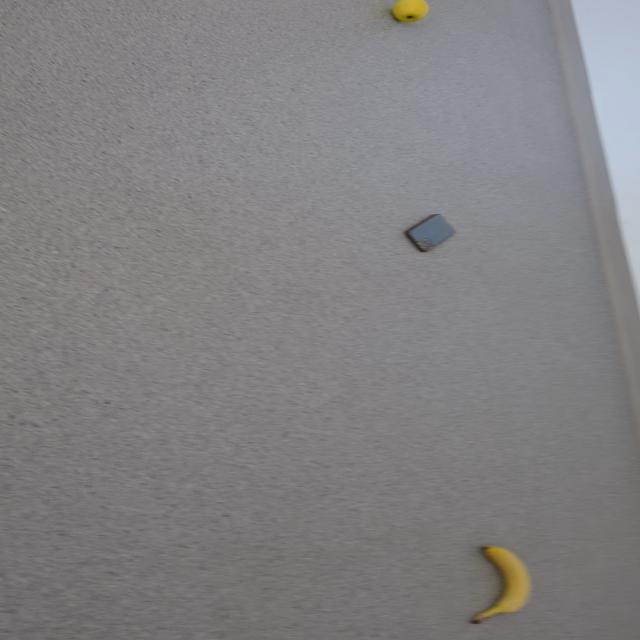apple: (390, 0, 429, 23)
banana: (468, 545, 531, 624)
phone: (404, 213, 454, 252)
